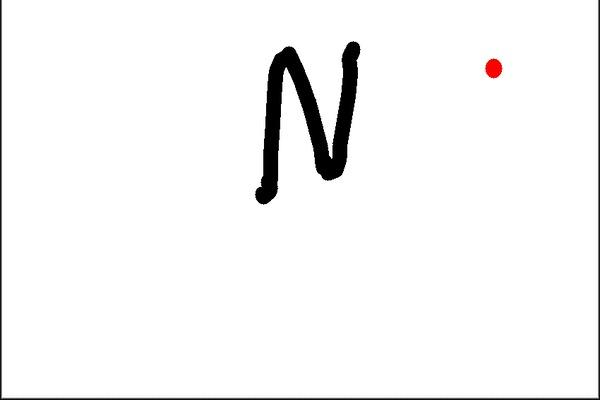N: (251, 37, 363, 205)
